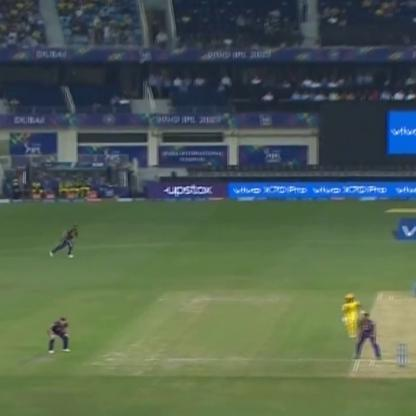pitch: (348, 284, 414, 382)
